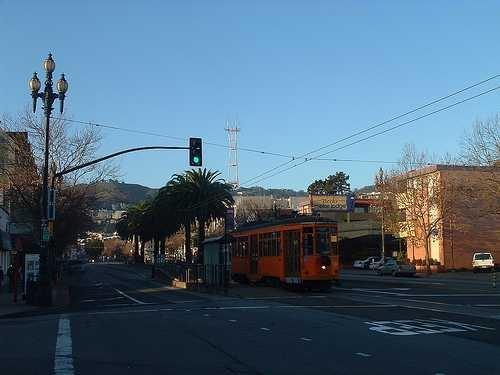green: (189, 137, 203, 166)
